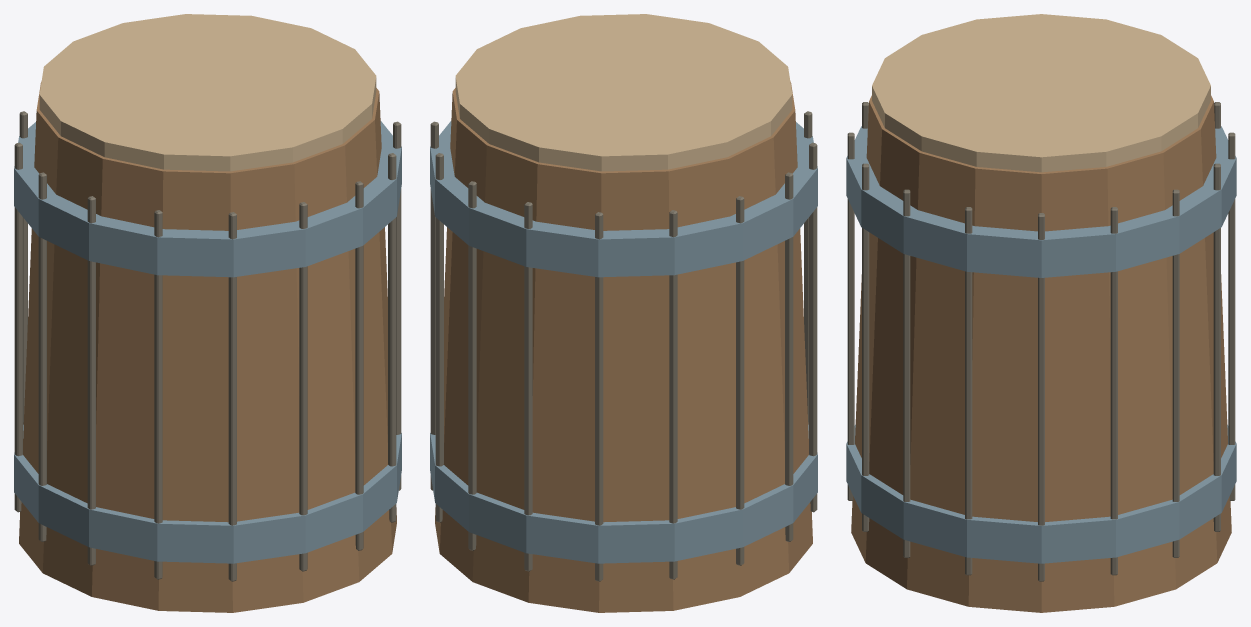
The model's file is barrel.glb.
3 renders of one model, left to right at view 1: azimuth 30°, elevation 25°; view 2: azimuth 150°, elevation 25°; view 3: azimuth 270°, elevation 25°, orthographic.
Parts seen in each view (by area): view 1: barrel, top, metal_band (×2), stave_seam (×10); view 2: barrel, top, metal_band (×2), stave_seam (×10); view 3: barrel, top, metal_band (×2), stave_seam (×9).
Part boxes in pixels (left/top/right/bottom): barrel: left=19, top=81, right=396, bottom=612; top: left=39, top=14, right=376, bottom=171; metal_band (×2): left=14, top=121, right=401, bottom=563; stave_seam (×10): left=14, top=111, right=401, bottom=581; barrel: left=435, top=81, right=812, bottom=612; top: left=455, top=14, right=792, bottom=171; metal_band (×2): left=430, top=121, right=817, bottom=563; stave_seam (×10): left=430, top=111, right=817, bottom=581; barrel: left=851, top=95, right=1231, bottom=612; top: left=872, top=14, right=1210, bottom=172; metal_band (×2): left=846, top=126, right=1236, bottom=563; stave_seam (×9): left=847, top=132, right=1235, bottom=581.
Bounding box in the file's own units: 0.656 × 0.829 × 0.656.
